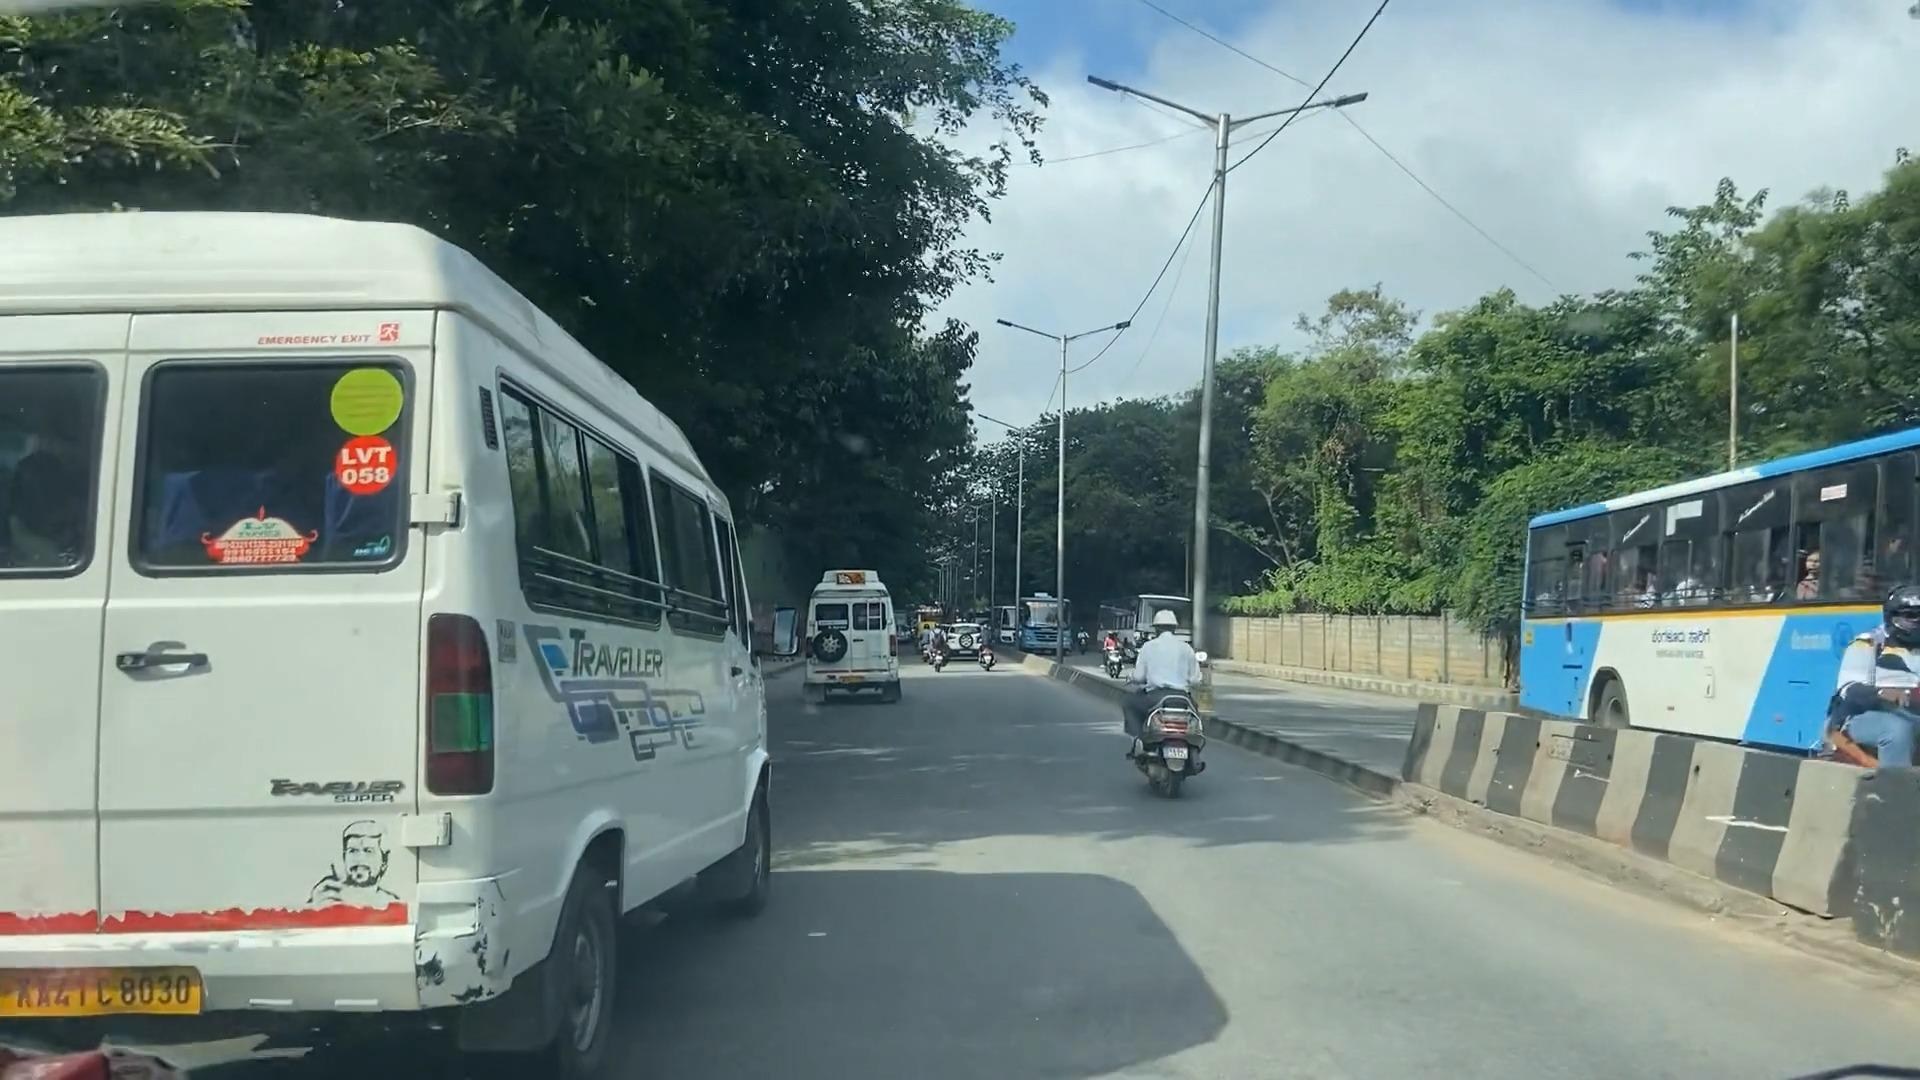HMV: (5, 228, 786, 1075), (815, 558, 905, 724)
LMV: (1116, 597, 1240, 827)
